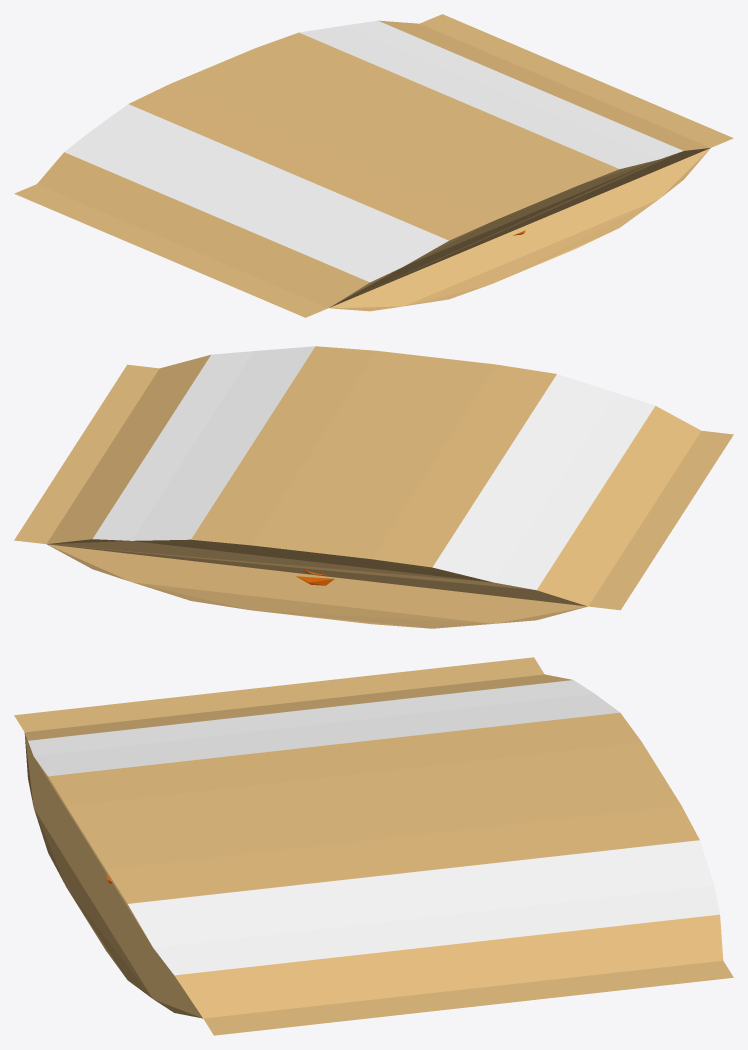
3 renders of one model, top to bottom at view 1: azimuth 30°, elevation 25°; view 2: azimuth 150°, elevation 25°; view 3: azimuth 270°, elevation 25°, orthographic. The views are drawn at different scales.
Parts seen in each view (by area): view 1: snack1; view 2: snack1; view 3: snack1.
Part boxes in pixels (left/top/right/bottom): snack1: left=14, top=14, right=733, bottom=317; snack1: left=14, top=346, right=733, bottom=628; snack1: left=14, top=657, right=733, bottom=1035.
Size of the model in its own units: 0.8166 by 0.0816 by 0.6567.
